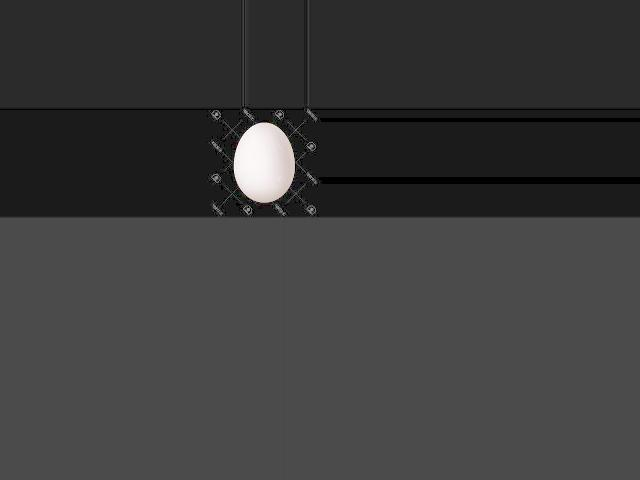egg: (233, 123, 293, 202)
